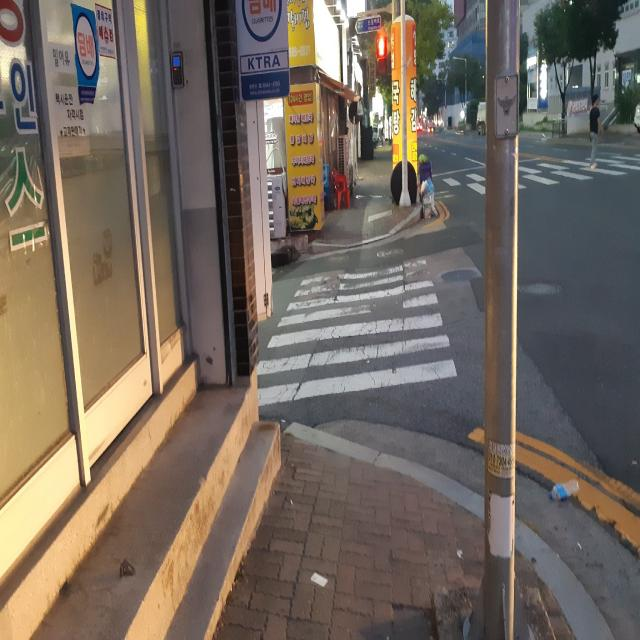횡단보도: (254, 255, 459, 410), (440, 136, 640, 194), (375, 34, 389, 77)
